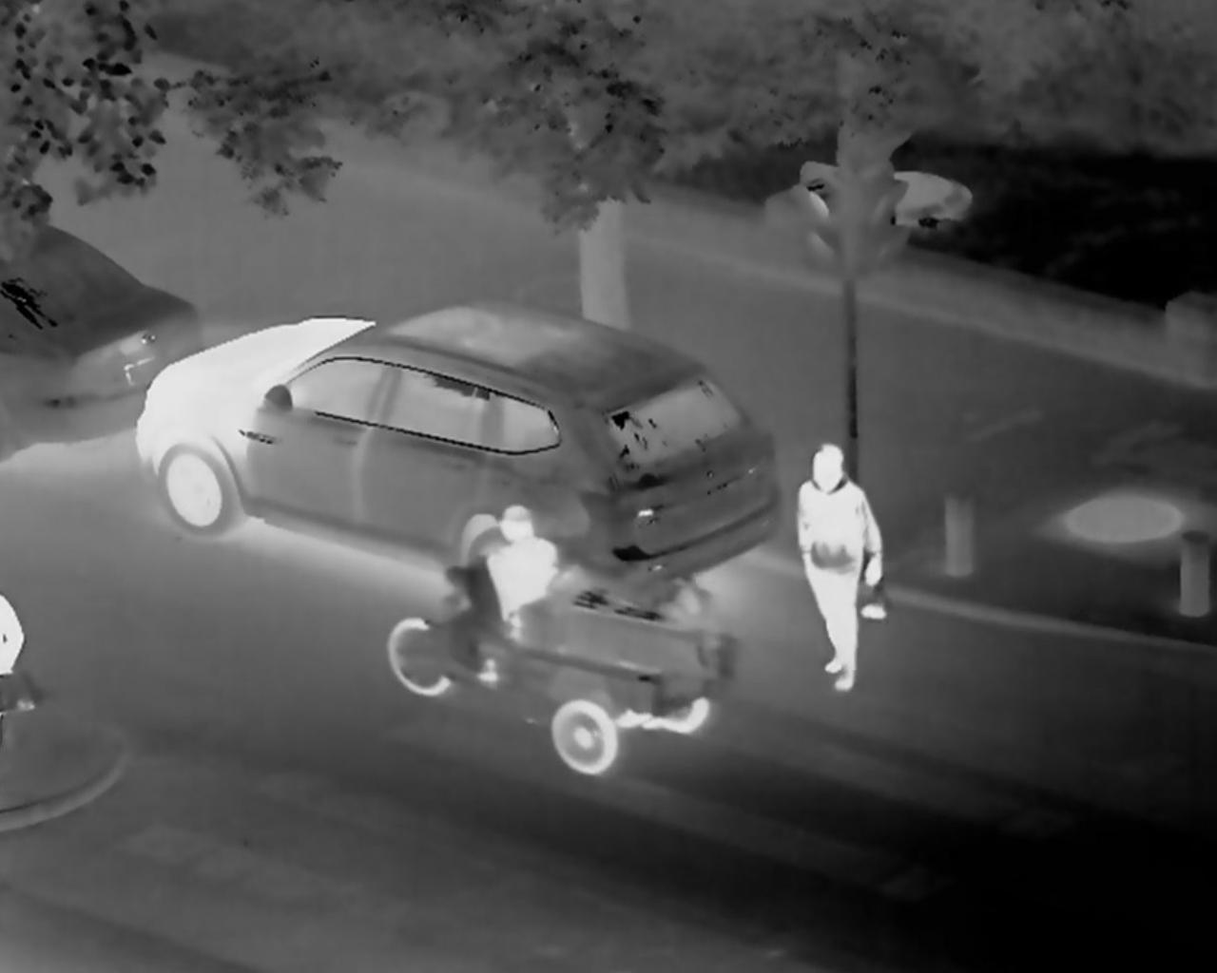person: (796, 420, 889, 702), (475, 508, 571, 639)
